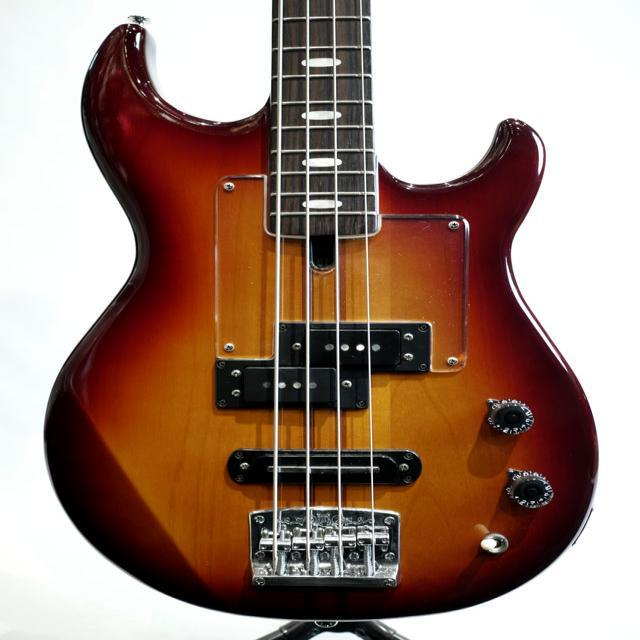bass: (46, 0, 596, 619)
